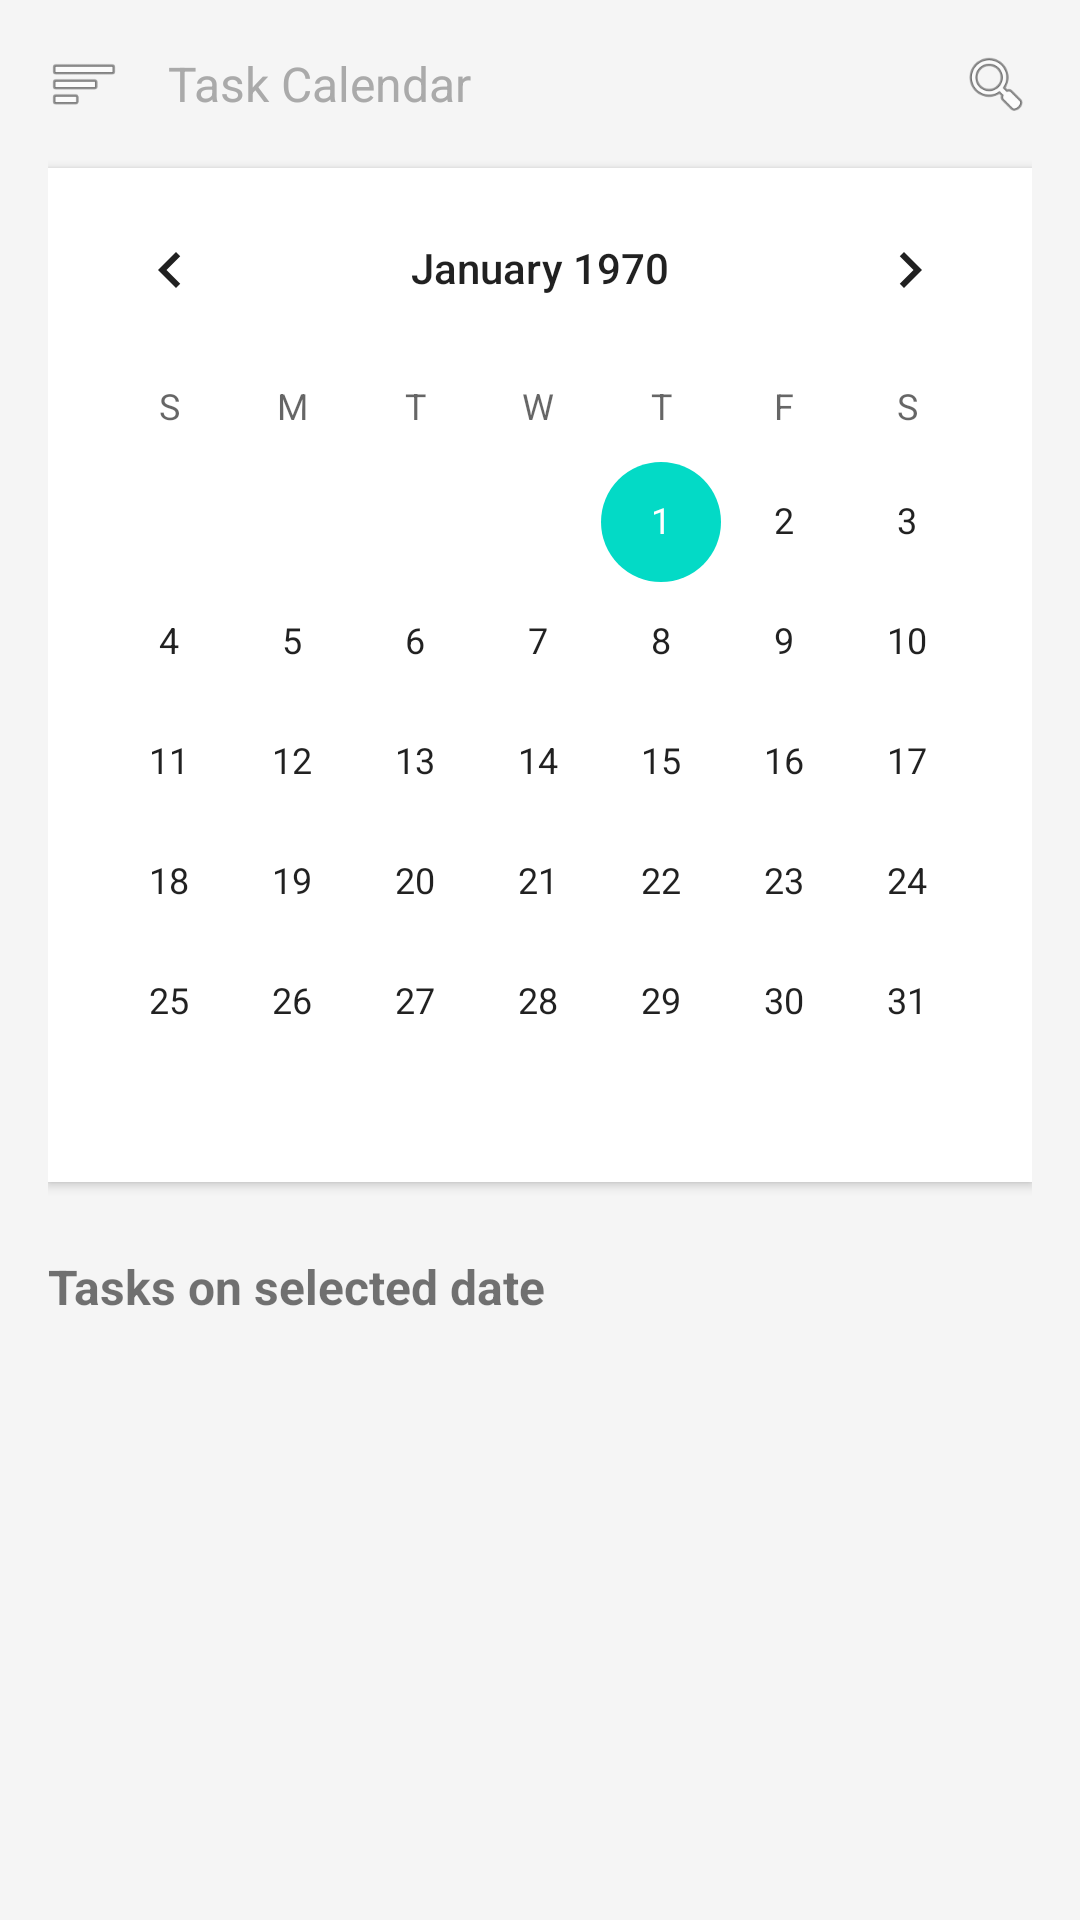

Icons on this 1080×1920 Android screen, each with the point to tap as point (x, y):
search: point (996, 84)
sort by size: point (84, 84)
